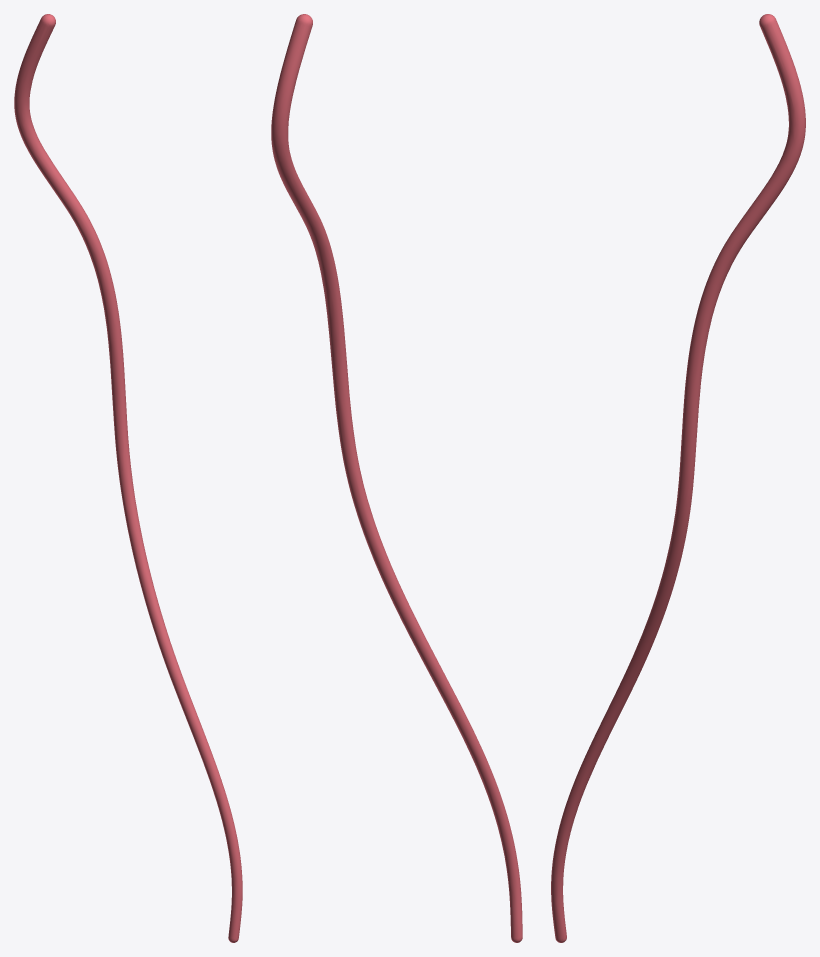
File: fma66623_fj2310.glb
The picture shows the model from 3 angles, left to right: view 1: azimuth 90°, elevation 25°; view 2: azimuth 150°, elevation 25°; view 3: azimuth 270°, elevation 25°; orthographic projection. The views are drawn at different scales.
Parts seen in each view (by area): view 1: FMA66623_FJ2310; view 2: FMA66623_FJ2310; view 3: FMA66623_FJ2310.
Part boxes in pixels (bbox=[...]): FMA66623_FJ2310: bbox=[14, 14, 242, 942]; FMA66623_FJ2310: bbox=[271, 14, 522, 942]; FMA66623_FJ2310: bbox=[551, 14, 805, 942].
Size of the model in its own units: 0.0327 by 0.2298 by 0.0541.
